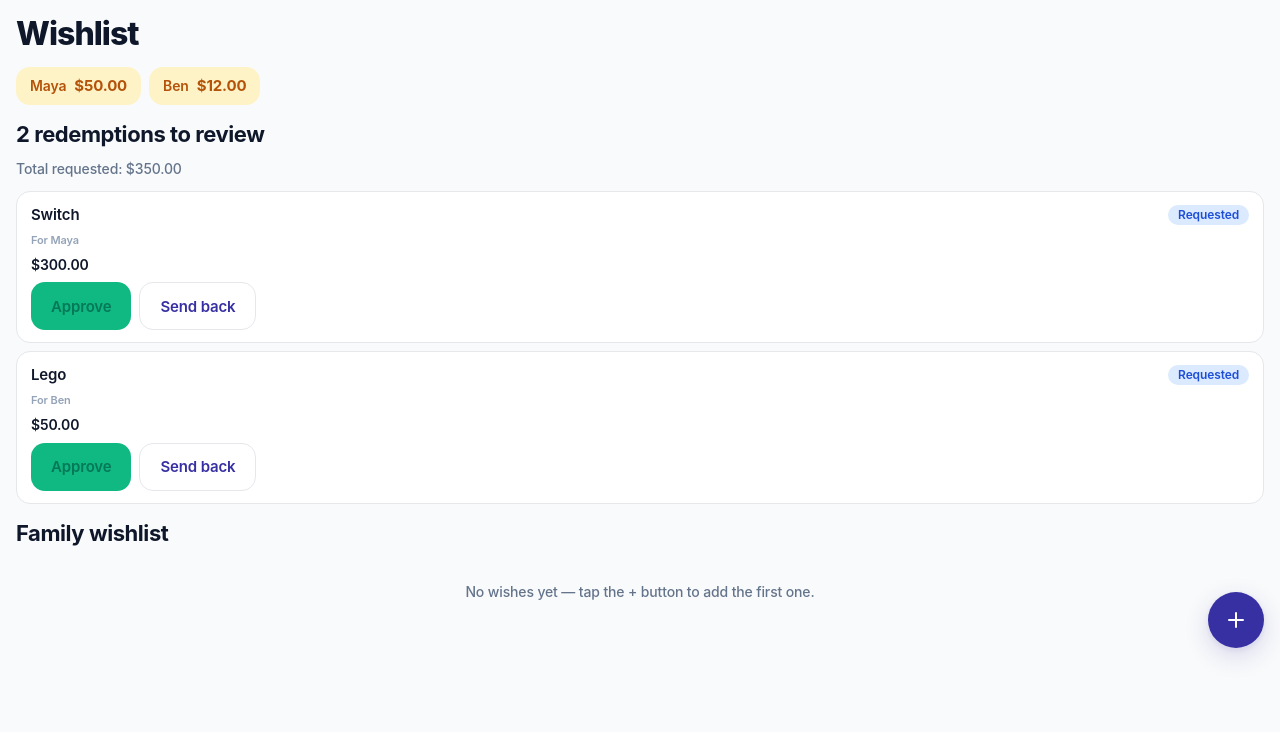
WishlistScreen — parent approval queue › clicking Send back reveals a required reason input
Multiple "Send back" buttons (one per row). Pick the first.
Click the button "Send back" below "$300.00" at (198, 306), box [140,282,256,330]
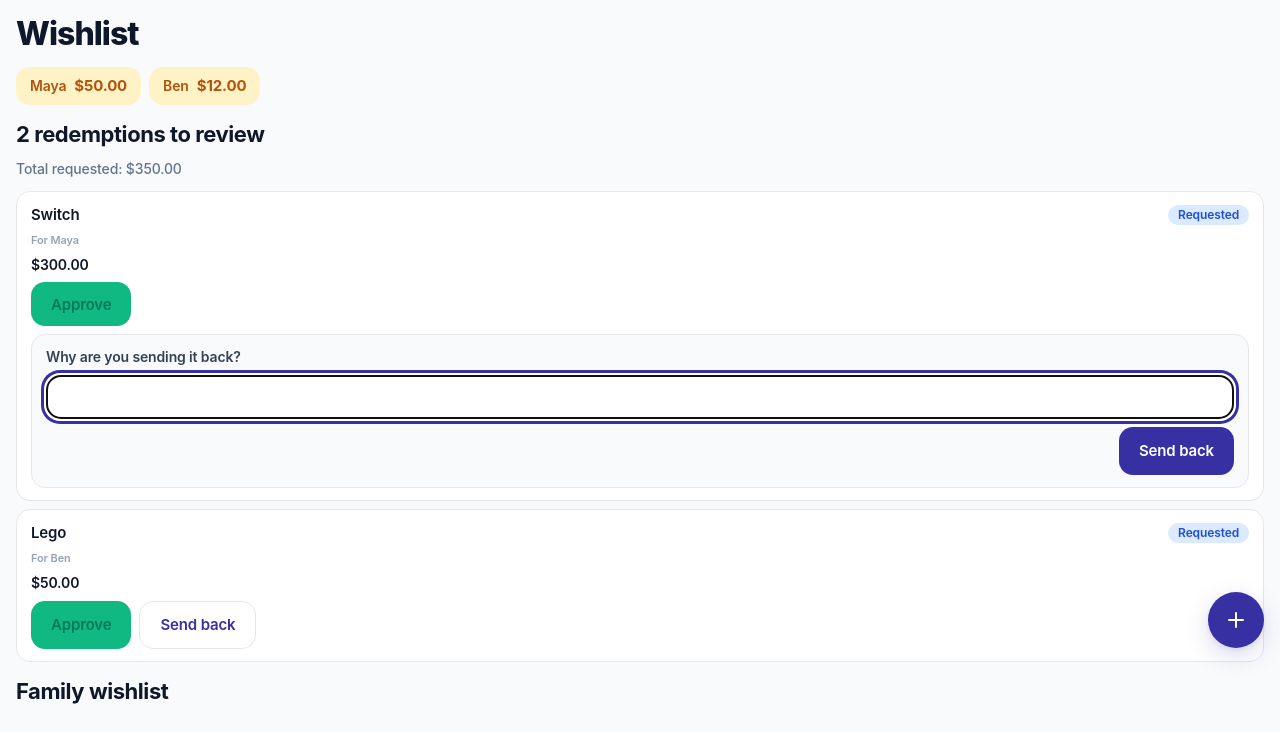
expect the field labelled "Why are you sending it back?" is shown: met, box [46,375,1234,419]
